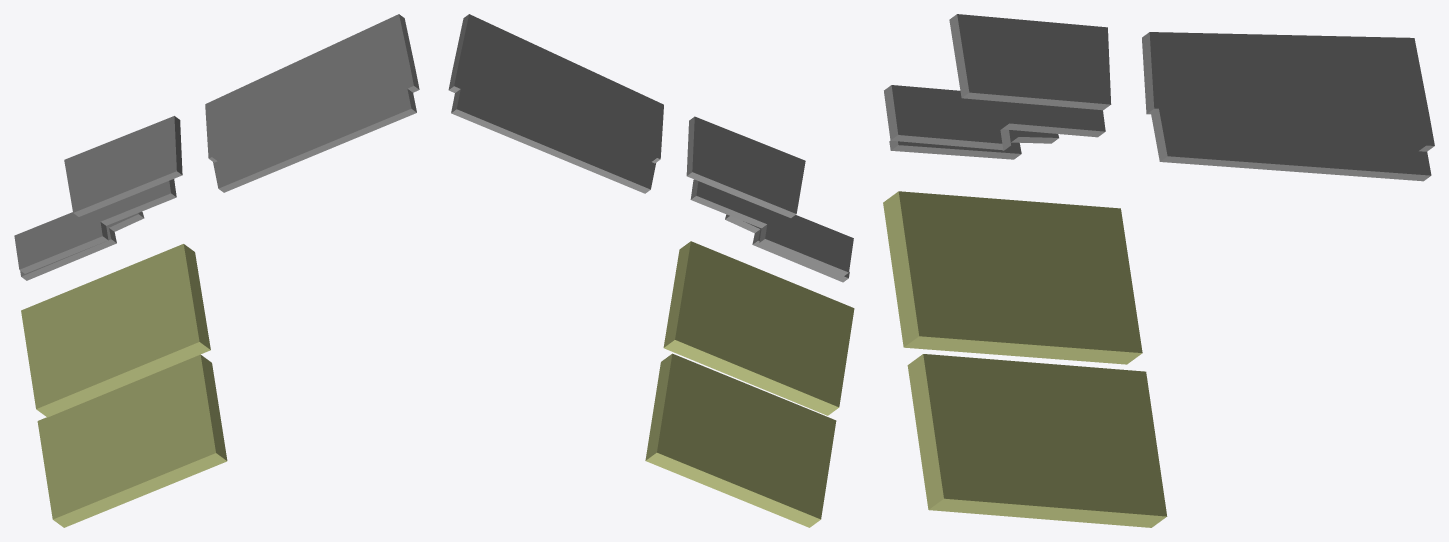
3 views of the same model, side by side, from view 1: azimuth 30°, elevation 25°; view 2: azimuth 150°, elevation 25°; view 3: azimuth 330°, elevation 25° (orthographic). The views are drawn at different scales.
Visible parts, largest first — view 1: 0_2_2_0_0_0_2; view 2: 0_2_2_0_0_0_2; view 3: 0_2_2_0_0_0_2.
Part boxes in pixels (bbox=[...]): 0_2_2_0_0_0_2: bbox=[14, 14, 419, 527]; 0_2_2_0_0_0_2: bbox=[448, 14, 854, 527]; 0_2_2_0_0_0_2: bbox=[883, 14, 1434, 527].
Bounding box in the file's own units: 121 × 122 × 6.39.
